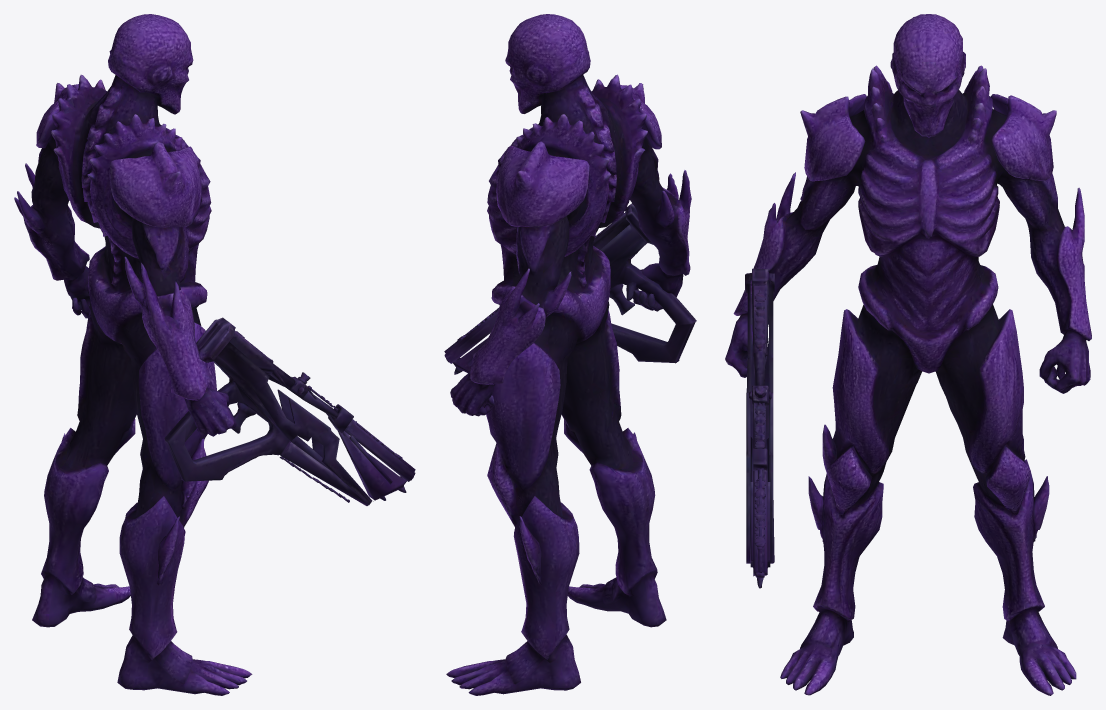
The model's file is host-trooper.glb.
The picture shows the model from 3 angles, left to right: view 1: azimuth 30°, elevation 25°; view 2: azimuth 150°, elevation 25°; view 3: azimuth 270°, elevation 25°; orthographic projection. The views are drawn at different scales.
Parts seen in each view (by area): view 1: tripo_node_80237684-1501-4094-a9ae-98e5c68bffd8; view 2: tripo_node_80237684-1501-4094-a9ae-98e5c68bffd8; view 3: tripo_node_80237684-1501-4094-a9ae-98e5c68bffd8.
Part boxes in pixels (bbox=[...]): tripo_node_80237684-1501-4094-a9ae-98e5c68bffd8: bbox=[14, 14, 415, 695]; tripo_node_80237684-1501-4094-a9ae-98e5c68bffd8: bbox=[444, 14, 696, 695]; tripo_node_80237684-1501-4094-a9ae-98e5c68bffd8: bbox=[725, 14, 1091, 695].
Size of the model in its own units: 0.4404 by 1 by 0.5069.
1 material, 1 textured.
